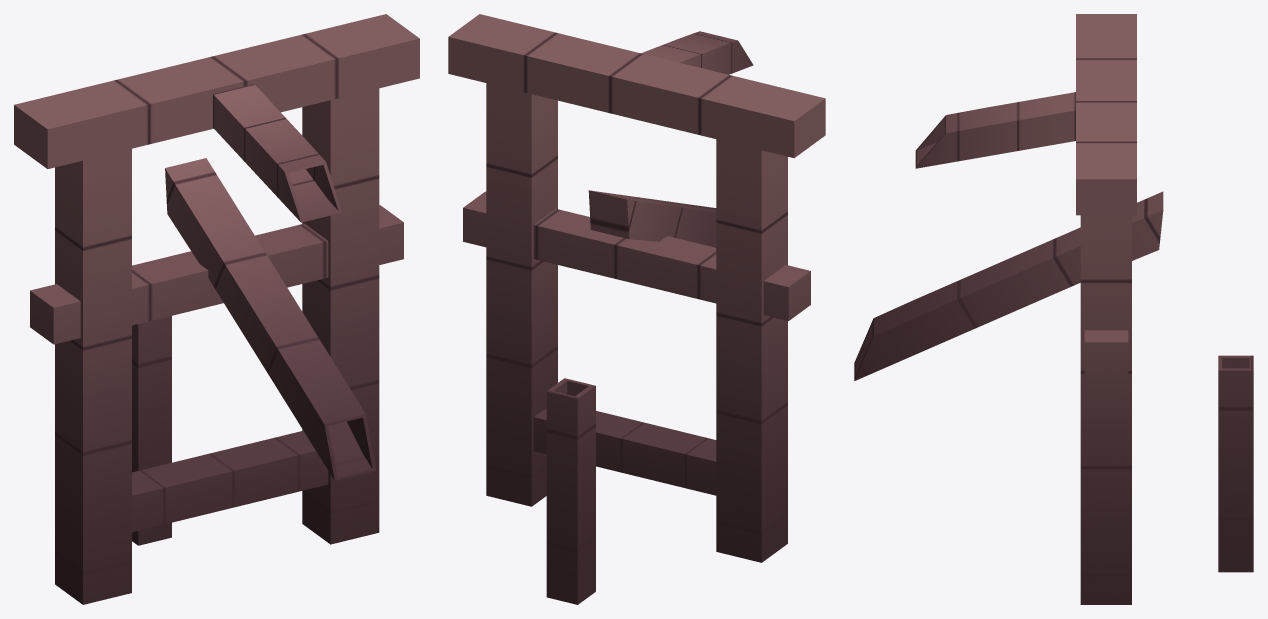
The model's file is NegocioDeAgua.fbx.
The picture shows the model from 3 angles, left to right: view 1: azimuth 30°, elevation 25°; view 2: azimuth 150°, elevation 25°; view 3: azimuth 270°, elevation 25°; orthographic projection. The views are drawn at different scales.
Parts seen in each view (by area): view 1: pCube11; view 2: pCube11; view 3: pCube11.
Boxes of the visible parts, box(x1,y1,x2,y2) form: pCube11: box(14, 14, 419, 604); pCube11: box(448, 14, 825, 604); pCube11: box(854, 14, 1253, 604).
Size of the model in its own units: 4.95 by 6.54 by 5.06.
